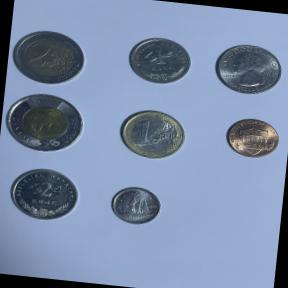coin: (0, 88, 89, 158), (5, 25, 90, 91), (2, 163, 86, 226), (114, 105, 191, 165), (210, 40, 286, 100), (220, 114, 282, 163), (106, 180, 166, 230)
